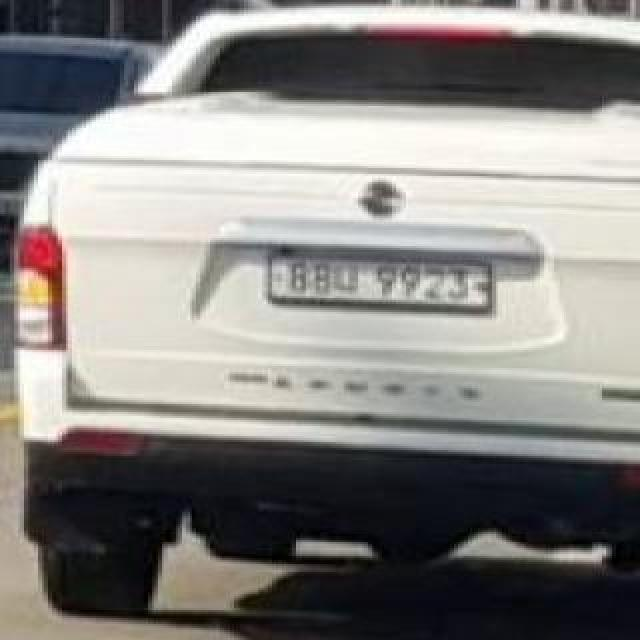car: (11, 0, 640, 628)
illegal_plate: (268, 252, 501, 319)
